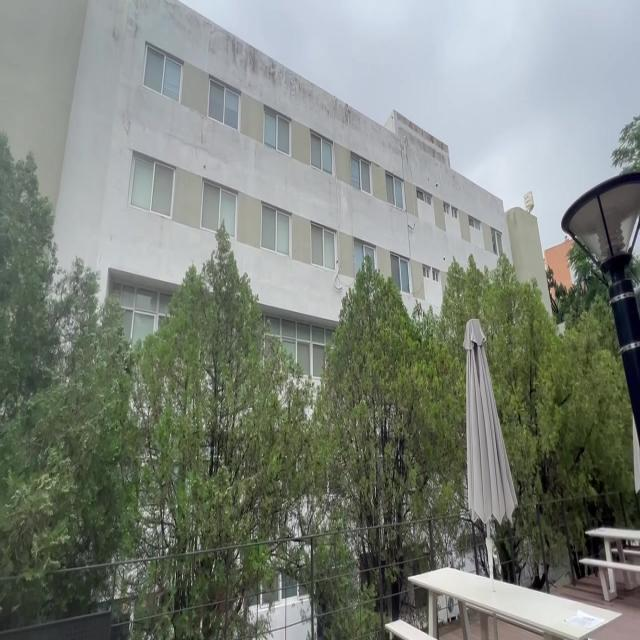building: (92, 24, 454, 292)
